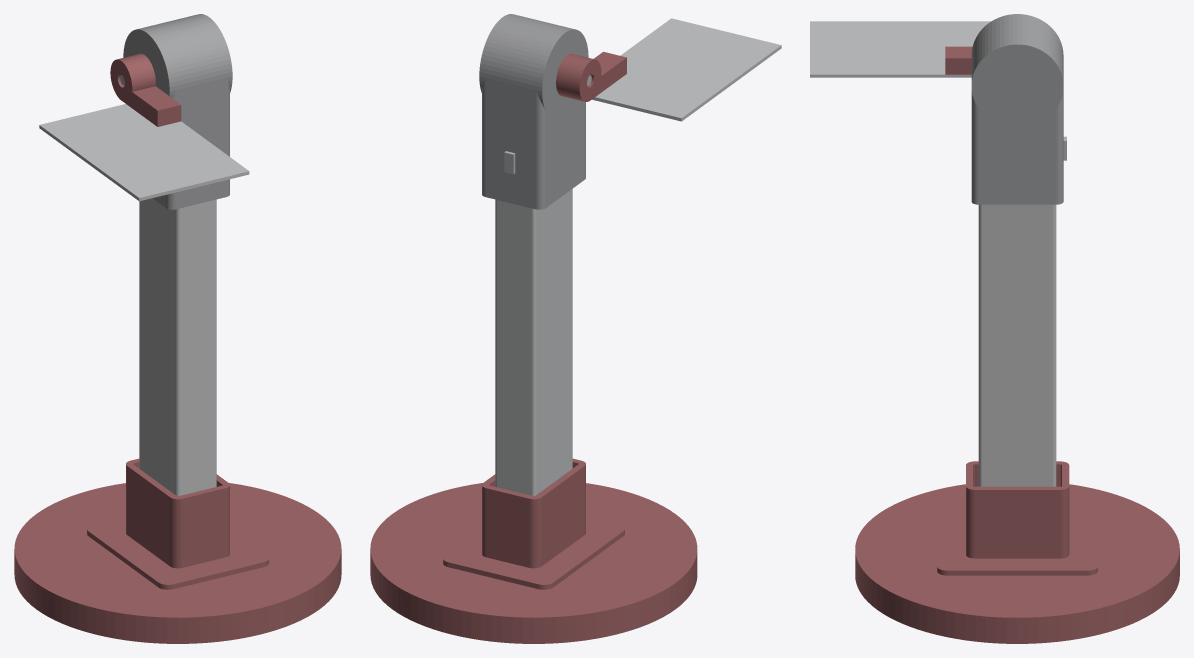
Rendered from demo.glb.
The picture shows the model from 3 angles, left to right: view 1: azimuth 30°, elevation 25°; view 2: azimuth 150°, elevation 25°; view 3: azimuth 270°, elevation 25°; orthographic projection.
Visible parts, largest first — view 1: print_fot_fot, sett_arm_profil, print_hylse_hylse, kjopt_kjoleplate_kjoleplate, sett_arm_kappe, print_nav_nav; view 2: print_fot_fot, sett_arm_profil, sett_arm_kappe, print_hylse_hylse, kjopt_kjoleplate_kjoleplate, print_nav_nav; view 3: print_fot_fot, sett_arm_profil, sett_arm_kappe, print_hylse_hylse, kjopt_kjoleplate_kjoleplate, print_nav_nav.
Part boxes in pixels (left/top/right/bottom): print_fot_fot: left=14, top=483, right=341, bottom=643; sett_arm_profil: left=139, top=198, right=216, bottom=495; print_hylse_hylse: left=87, top=458, right=268, bottom=589; kjopt_kjoleplate_kjoleplate: left=39, top=104, right=249, bottom=201; sett_arm_kappe: left=123, top=14, right=232, bottom=209; print_nav_nav: left=110, top=53, right=181, bottom=126; print_fot_fot: left=370, top=483, right=697, bottom=643; sett_arm_profil: left=495, top=189, right=572, bottom=496; sett_arm_kappe: left=479, top=14, right=588, bottom=209; print_hylse_hylse: left=443, top=458, right=624, bottom=589; kjopt_kjoleplate_kjoleplate: left=592, top=18, right=781, bottom=121; print_nav_nav: left=556, top=51, right=626, bottom=101; print_fot_fot: left=855, top=484, right=1179, bottom=643; sett_arm_profil: left=978, top=204, right=1056, bottom=486; sett_arm_kappe: left=971, top=14, right=1063, bottom=204; print_hylse_hylse: left=937, top=461, right=1097, bottom=575; kjopt_kjoleplate_kjoleplate: left=810, top=21, right=990, bottom=77; print_nav_nav: left=945, top=46, right=972, bottom=74.
Bounding box in the file's own units: 0.181 × 0.334 × 0.205.
